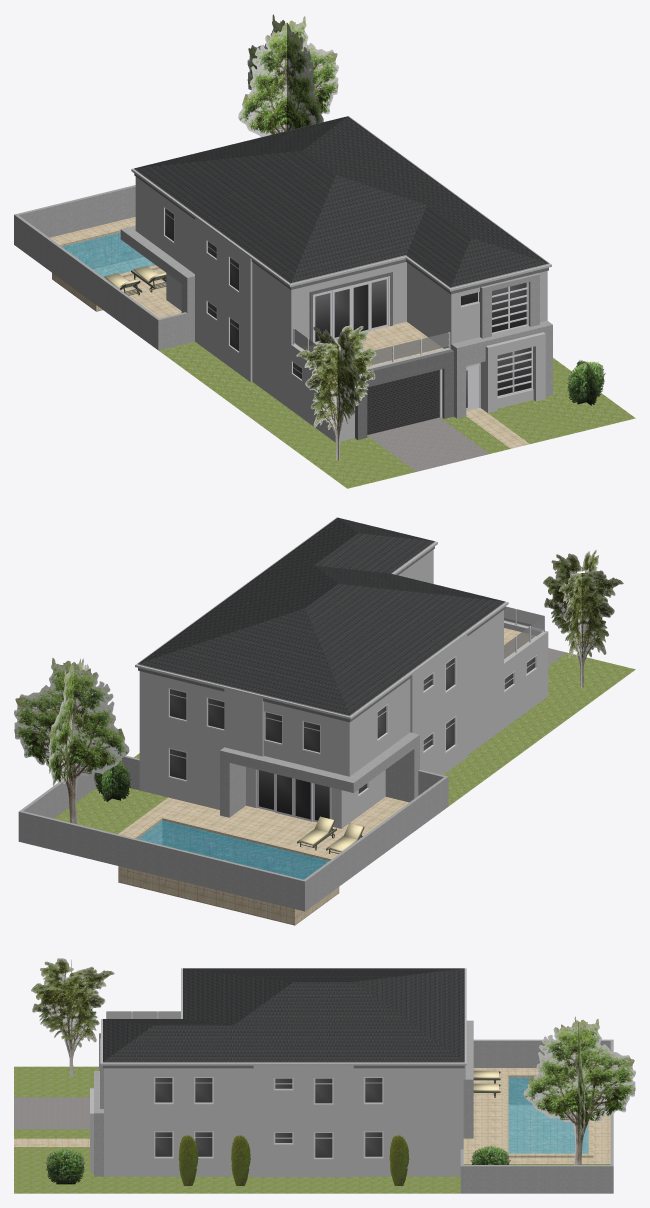
File: Modern House 06.fbx
The picture shows the model from 3 angles, top to bottom: view 1: azimuth 30°, elevation 25°; view 2: azimuth 150°, elevation 25°; view 3: azimuth 270°, elevation 25°; orthographic projection. The views are drawn at different scales.
Visible parts, largest first — view 1: Model, Group6, Tree_01_1, Tree_02_1, Group7, Group3, Group4, Shrub_2_2, Group5; view 2: Model, Group6, Tree_01_1, Tree_02_1, Group2, Shrub_2_1, Window9, Window2, Window6, Window11, Window8; view 3: Model, Group6, Tree_01_1, Tree_02_1, Shrub_2_2, Big_Shrub3, Big_Shrub2, Big_Shrub1, Shrub_2_1, Window12, Window3, Window13 (+5 smaller).
Boxes of the visible parts, x1,y1,x2,y2 form: Model: [14, 177, 635, 488]; Group6: [131, 116, 551, 294]; Tree_01_1: [238, 14, 338, 137]; Tree_02_1: [296, 325, 376, 460]; Group7: [313, 276, 389, 344]; Group3: [492, 282, 528, 334]; Group4: [497, 347, 532, 397]; Shrub_2_2: [567, 360, 605, 405]; Group5: [466, 364, 480, 410]; Model: [18, 549, 635, 925]; Group6: [135, 517, 508, 722]; Tree_01_1: [14, 658, 129, 824]; Tree_02_1: [543, 550, 623, 687]; Group2: [255, 769, 331, 822]; Shrub_2_1: [94, 759, 131, 801]; Window9: [168, 747, 187, 781]; Window2: [168, 687, 187, 721]; Window6: [263, 711, 282, 745]; Window11: [302, 720, 320, 754]; Window8: [206, 697, 224, 730]; Model: [14, 1020, 613, 1193]; Group6: [101, 968, 466, 1068]; Tree_01_1: [523, 1016, 635, 1164]; Tree_02_1: [31, 958, 114, 1076]; Shrub_2_2: [45, 1148, 85, 1184]; Big_Shrub3: [231, 1135, 250, 1185]; Big_Shrub2: [178, 1135, 198, 1185]; Big_Shrub1: [389, 1135, 409, 1185]; Shrub_2_1: [470, 1145, 510, 1164]; Window12: [363, 1131, 383, 1158]; Window3: [313, 1132, 333, 1159]; Window13: [363, 1077, 383, 1104].
Bounding box in the file's own units: 17.06 × 10.23 × 31.12.
